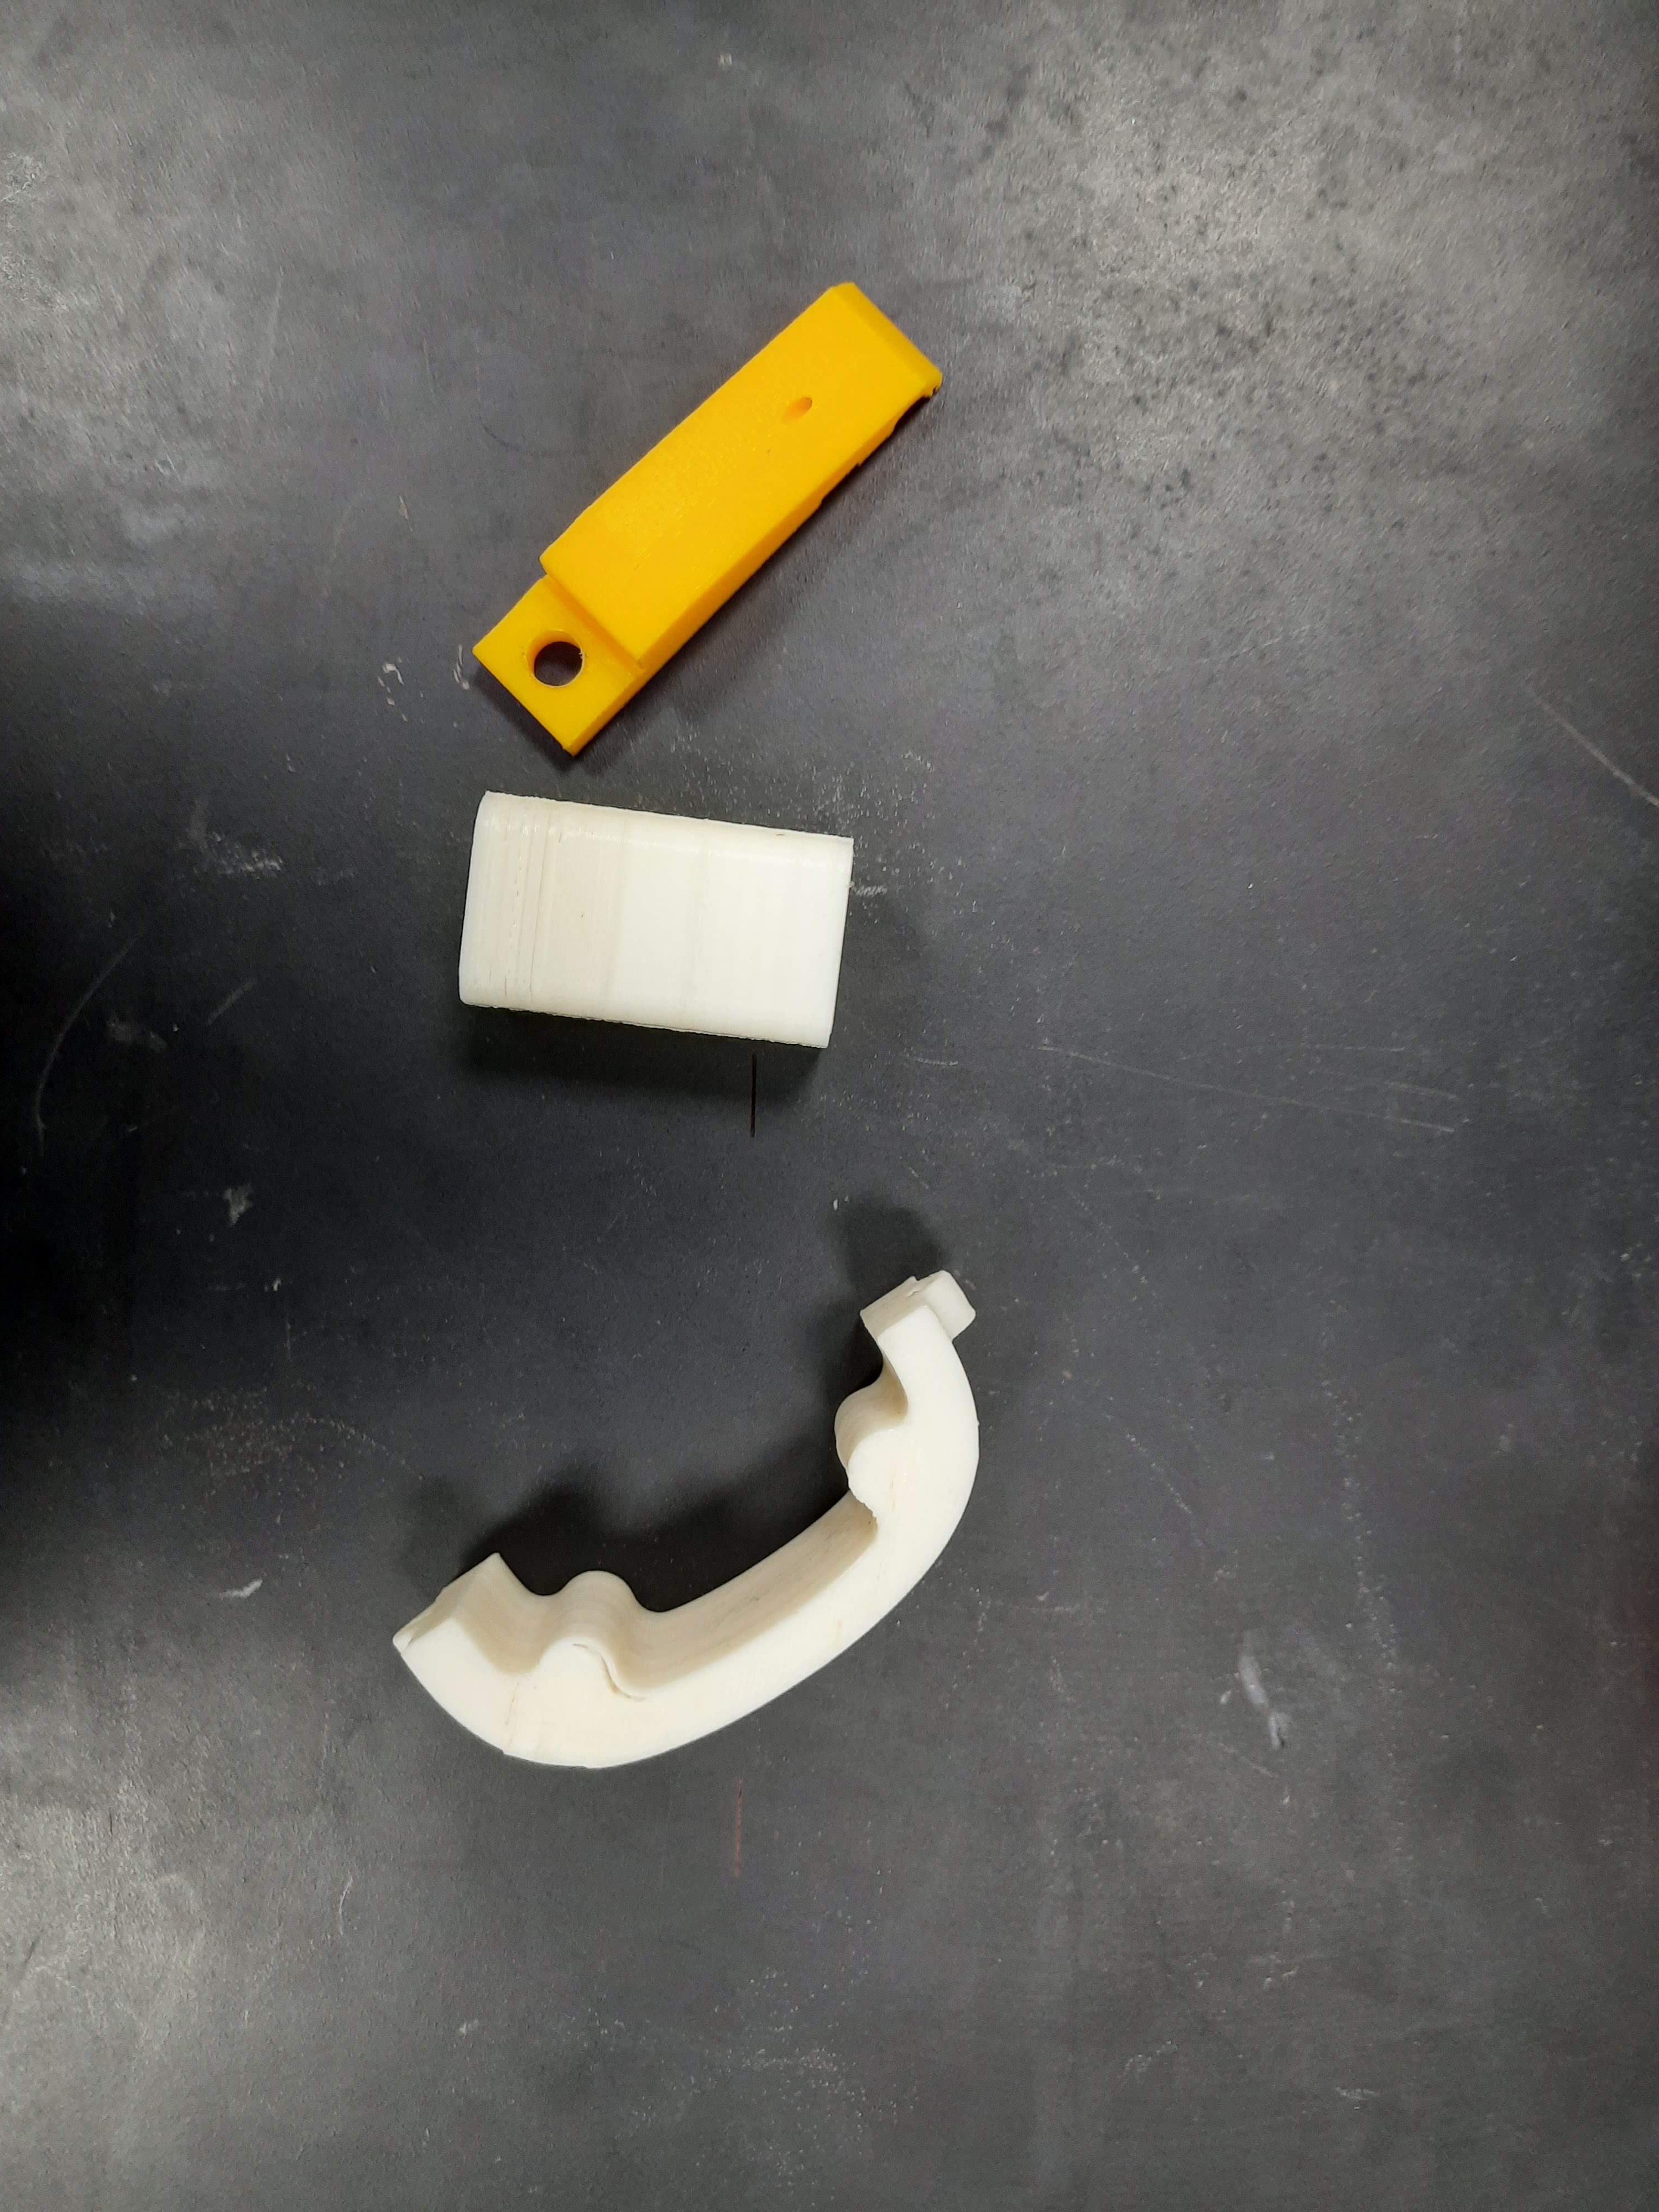ARC: (371, 1242, 1096, 1860)
CUBE: (450, 786, 861, 1047)
YELLOW: (451, 258, 955, 754)
